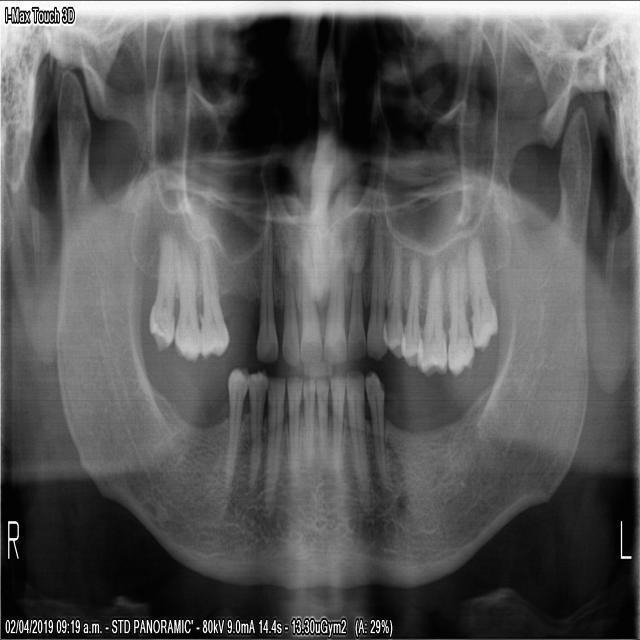LCD: (343, 364, 369, 515)
LCU: (363, 203, 386, 363)
LID: (326, 369, 343, 477), (311, 373, 328, 478)
LIU: (320, 212, 345, 363), (344, 221, 364, 362)
LMU: (412, 243, 446, 381), (443, 240, 474, 379), (463, 233, 498, 351)
LPMD: (361, 364, 389, 497)
LPMU: (395, 220, 422, 369), (380, 211, 404, 358)
RCD: (259, 368, 284, 520)
RID: (284, 369, 300, 500), (300, 370, 313, 483)
RIU: (297, 210, 321, 366), (278, 211, 298, 366)
RMU: (196, 225, 232, 364), (145, 224, 178, 354), (170, 237, 198, 362)
RPMD: (214, 361, 249, 526), (244, 362, 267, 498)
RPMU: (251, 201, 276, 363)
